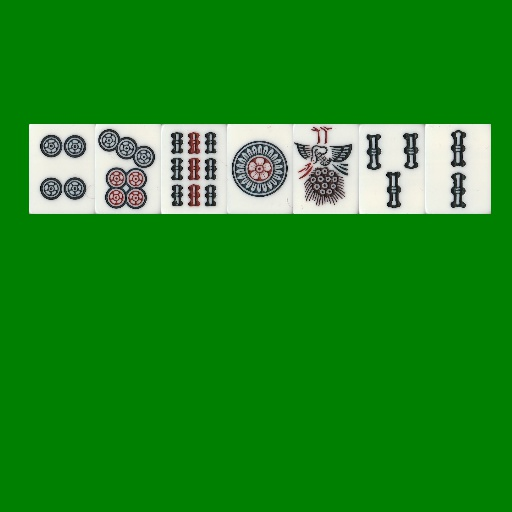1p: (227, 124, 293, 214)
1s: (293, 124, 359, 214)
2s: (425, 124, 491, 214)
3s: (359, 124, 425, 214)
4p: (29, 124, 95, 214)
7p: (95, 124, 161, 214)
9s: (161, 124, 227, 214)
